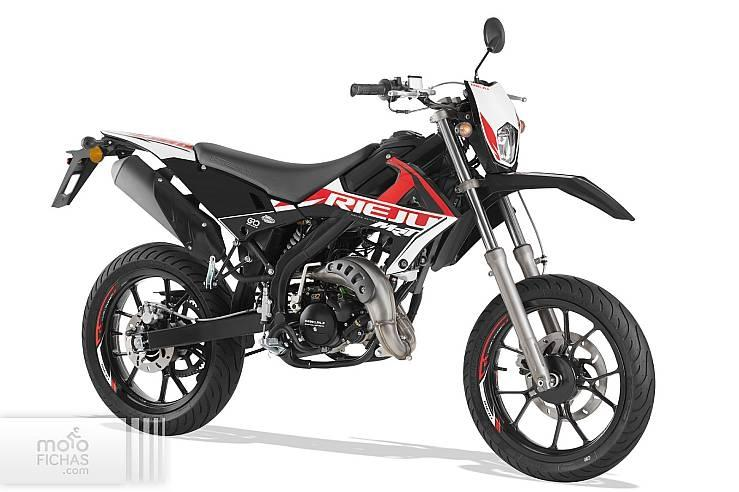engine-chasis: (256, 215, 429, 368)
exhaust: (111, 155, 229, 263), (306, 256, 416, 361), (232, 270, 273, 282)
frontside: (292, 80, 636, 392)
handlebar: (349, 75, 473, 113), (474, 16, 506, 81), (507, 94, 528, 102)
motorbike: (52, 75, 652, 479)
rearside: (51, 130, 306, 290), (134, 313, 262, 350), (230, 282, 265, 314)
seat: (193, 142, 380, 202)
tank: (344, 130, 435, 192)
watermark: (0, 415, 165, 488)
wheel: (463, 274, 653, 479), (82, 242, 244, 435), (517, 190, 547, 275), (147, 302, 256, 322), (388, 101, 431, 114)
